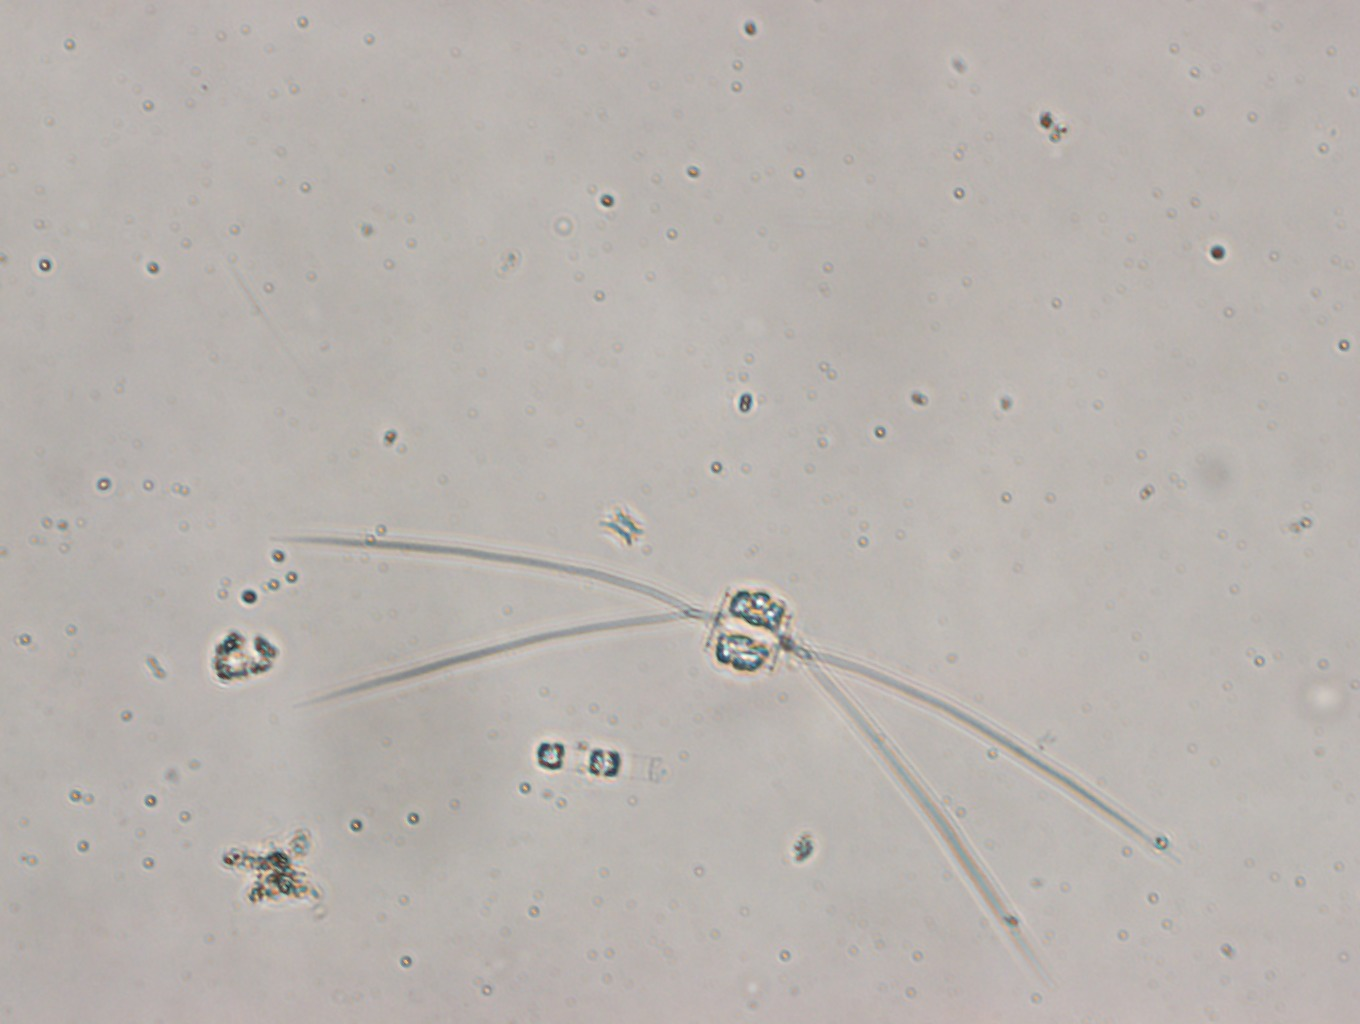chaetoceros: (264, 531, 1182, 975)
